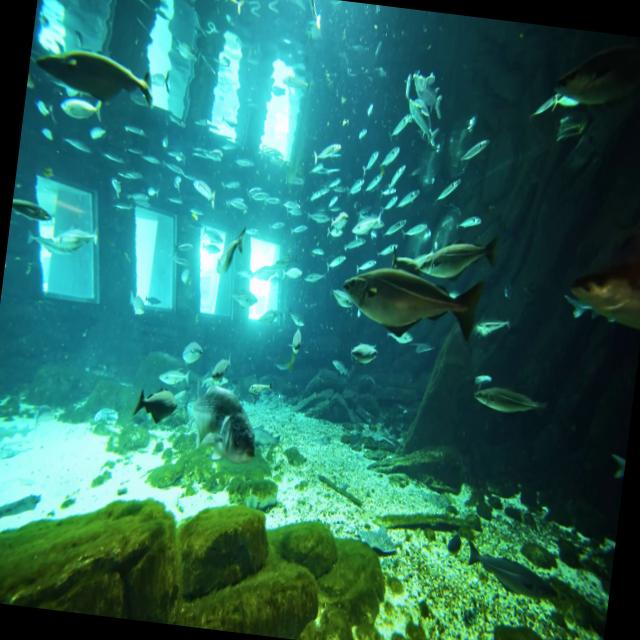fish: (336, 260, 482, 348), (32, 44, 154, 102), (412, 222, 499, 286), (472, 379, 554, 421), (131, 384, 179, 426), (214, 221, 248, 279)
